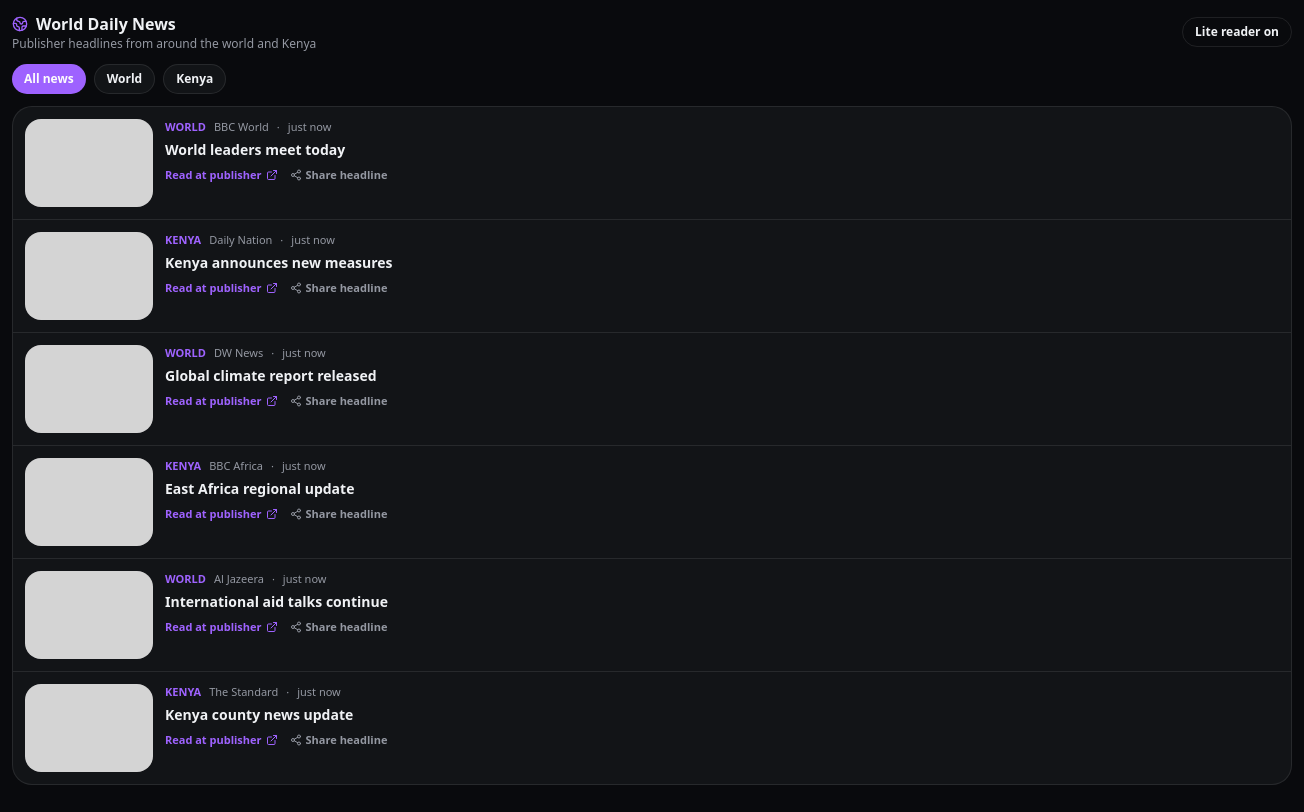
WorldNewsPanel › loads publisher headlines and filters World and Kenya separately
Expected: the link "World leaders meet today" is shown, [165,140,345,158]
Expected: the link "Kenya announces new measures" is shown, [165,252,393,272]
Step 1. Click the button "Kenya" → point(195, 79), box [163,64,226,94]
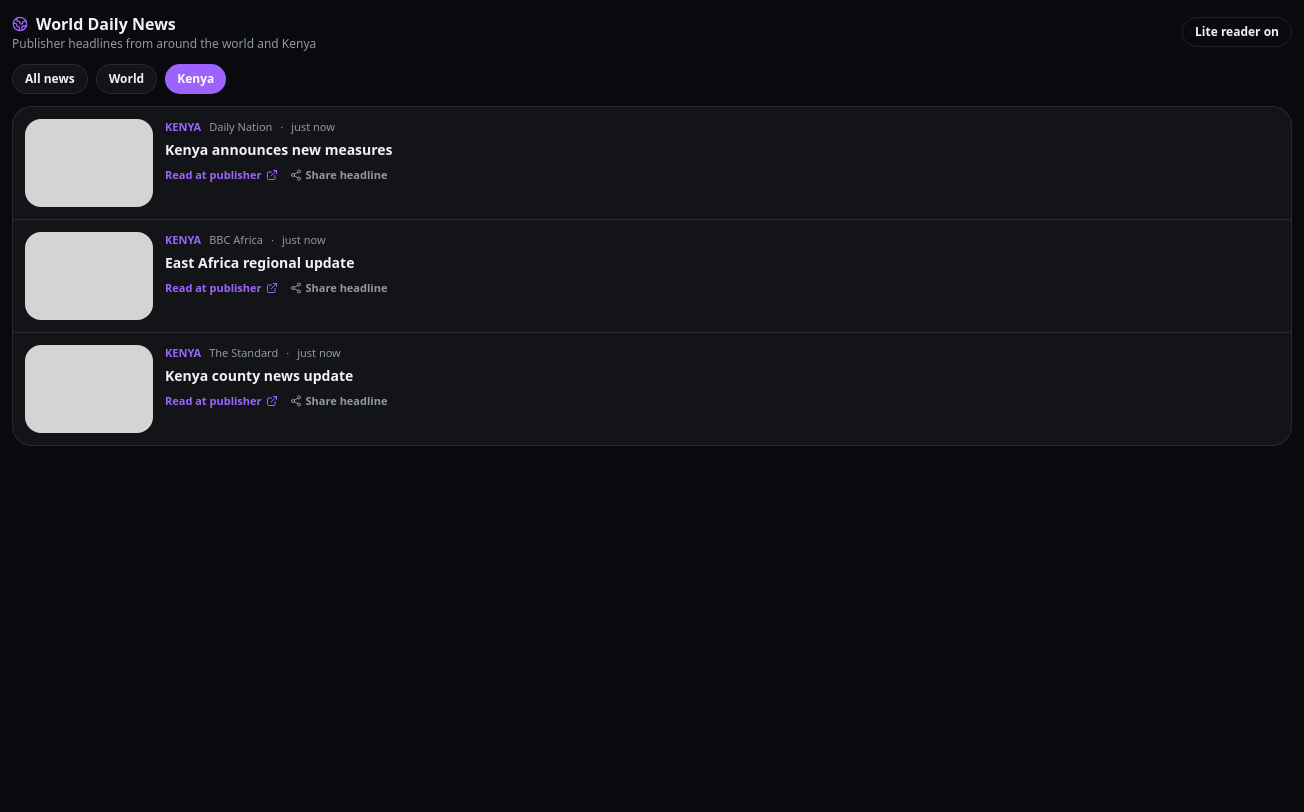
Expected: the link "Kenya announces new measures" is shown, [165,140,393,158]
Expected: the link "World leaders meet today" is gone
